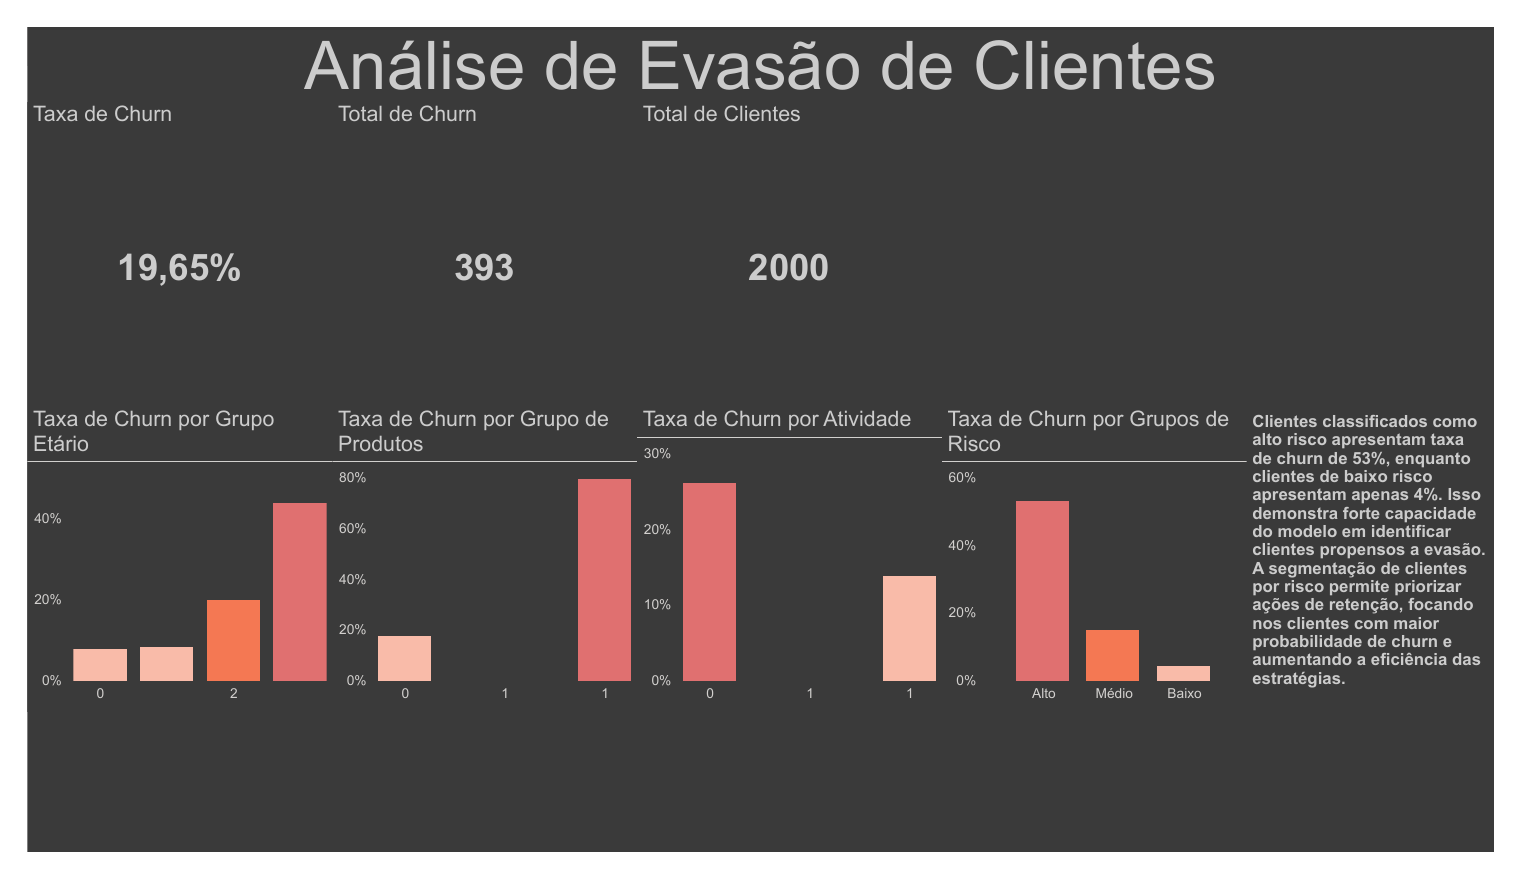

The page's visual inventory and layout, read from the dashboard file:
{"tool":"powerbi","page":{"name":"Página 1","canvas":[1280,720],"ordinal":0},"visuals":[{"type":"card","title":"Taxa de Churn","fields":{"Values":["churn_predictions.taxa_churn"]},"box":[0,65,266,266],"z":0},{"type":"card","title":"Total de Churn","fields":{"Values":["churn_predictions.total_churn"]},"box":[266,65,266,266],"z":1000},{"type":"card","title":"Total de Clientes","fields":{"Values":["churn_predictions.total_clientes"]},"box":[532,65,266,266],"z":2000},{"type":"columnChart","title":"Taxa de Churn por Grupo Etário","fields":{"Y":["churn_predictions.taxa_churn"],"Category":["churn_predictions.age_group"]},"box":[0,331,266,266],"z":3000},{"type":"columnChart","title":"Taxa de Churn por Grupo de Produtos","fields":{"Category":["churn_predictions.product_group"],"Y":["churn_predictions.taxa_churn"]},"box":[266,331,266,266],"z":4000},{"type":"columnChart","title":"Taxa de Churn por Atividade","fields":{"Category":["churn_predictions.active_member"],"Y":["churn_predictions.taxa_churn"]},"box":[532,331,266,266],"z":5000},{"type":"clusteredColumnChart","title":"Taxa de Churn por Grupos de Risco","fields":{"Category":["churn_predictions.risco_churn"],"Y":["churn_predictions.taxa_churn"]},"box":[798,331,266,266],"z":6000},{"type":"textbox","box":[1064,331,216,266],"z":7000},{"type":"shape","title":"Análise de Evasão de Clientes","box":[0,0,1280,65],"z":8000}]}

Visuals, with their boxes in screenshot pixels (x1, y1, x2, y2), scaled from the page's 1280x720 canvas onto the 1522x880 screenshot:
"Taxa de Churn" card: detection(0, 79, 316, 405)
"Total de Churn" card: detection(316, 79, 633, 405)
"Total de Clientes" card: detection(633, 79, 949, 405)
"Taxa de Churn por Grupo Etário" columnChart: detection(0, 405, 316, 730)
"Taxa de Churn por Grupo de Produtos" columnChart: detection(316, 405, 633, 730)
"Taxa de Churn por Atividade" columnChart: detection(633, 405, 949, 730)
"Taxa de Churn por Grupos de Risco" clusteredColumnChart: detection(949, 405, 1265, 730)
textbox: detection(1265, 405, 1521, 730)
"Análise de Evasão de Clientes" shape: detection(0, 0, 1521, 79)
